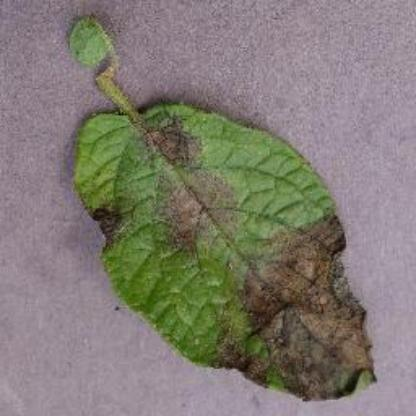Late-Blight: (51, 10, 393, 408)
